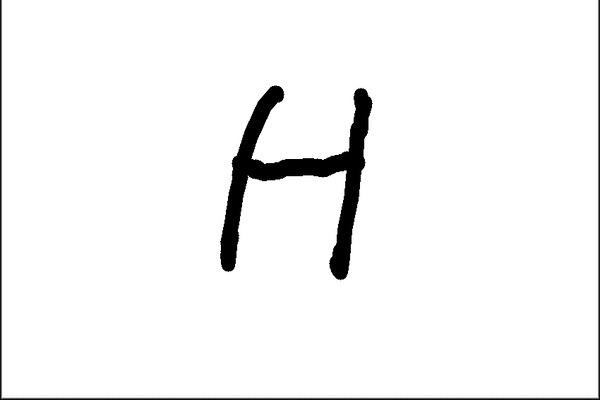H: (206, 79, 379, 286)
